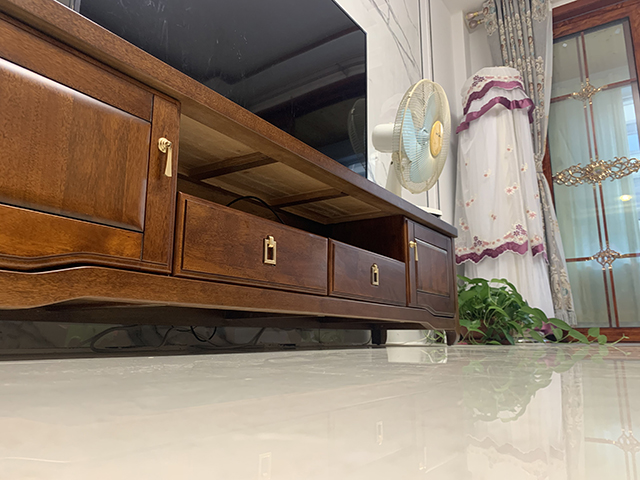cabinet: (1, 1, 460, 346)
curtain: (482, 1, 578, 327)
